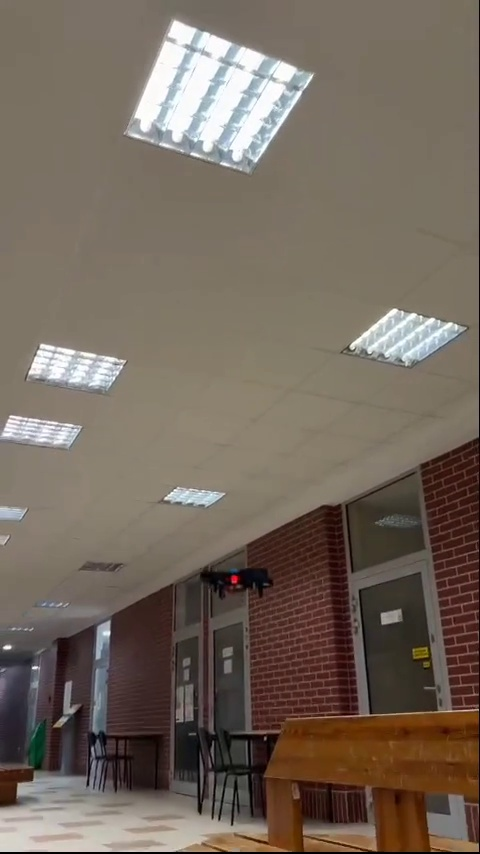drone: (200, 563, 270, 602)
